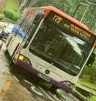bus: (50, 13, 63, 25)
